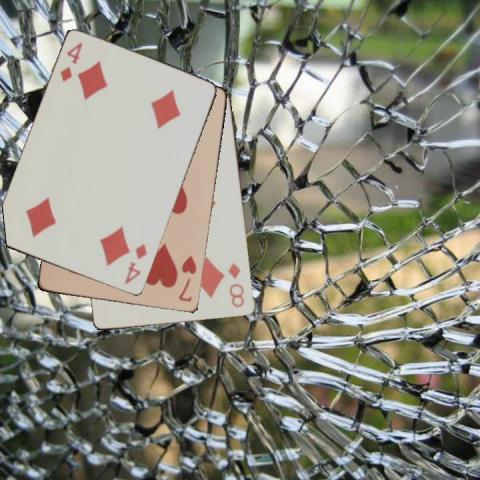4d: (122, 241, 149, 286), (57, 40, 84, 84)
7h: (176, 253, 198, 303)
8d: (225, 260, 246, 309)
